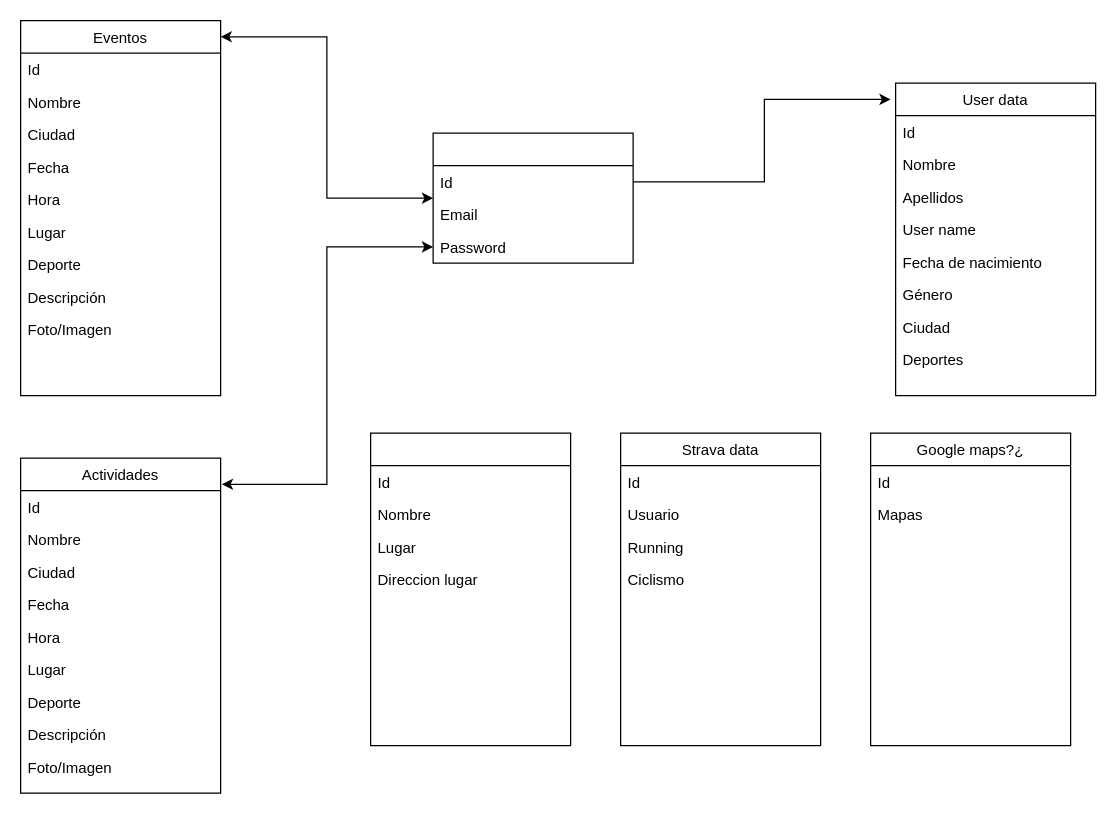
This 1116x814 diagram has some shape labels left out. Each missing label, with the box of its shape:
Ciudades: (369, 432, 571, 746)
User: (432, 132, 633, 263)
